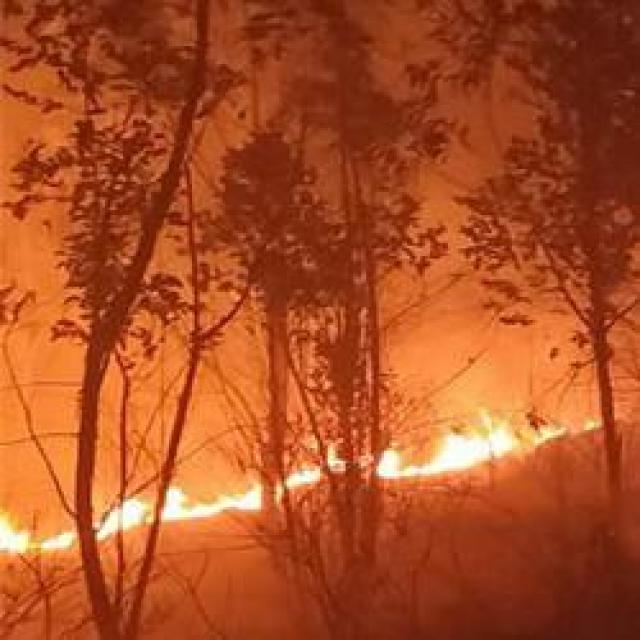fire: (0, 391, 586, 563)
